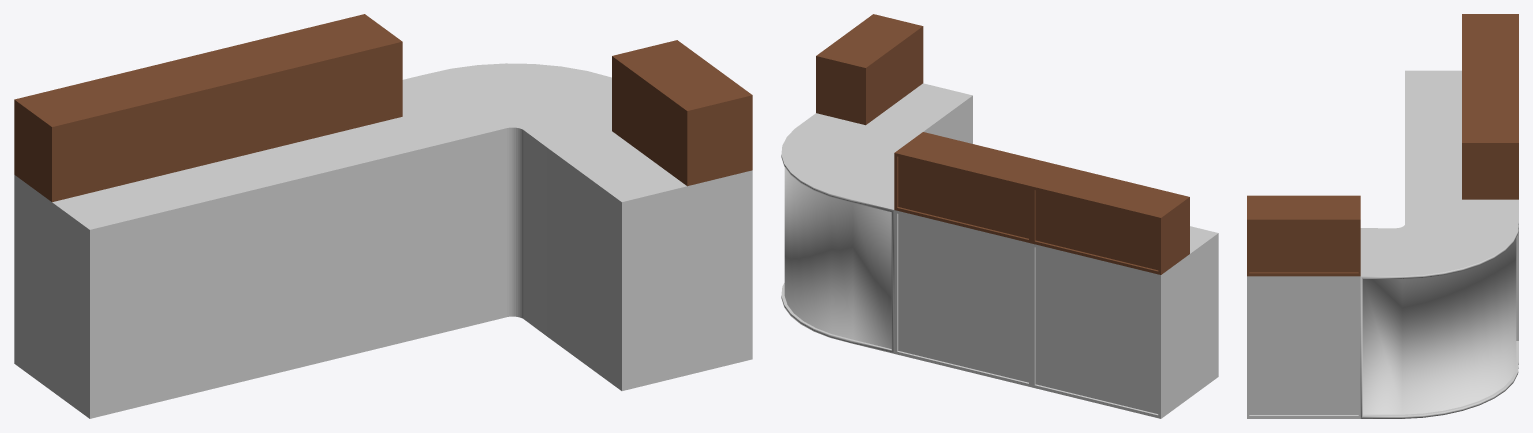
File: Reception_Desk.fbx
3 views of the same model, side by side, from view 1: azimuth 30°, elevation 25°; view 2: azimuth 150°, elevation 25°; view 3: azimuth 270°, elevation 25° (orthographic). The views are drawn at different scales.
Parts seen in each view (by area): view 1: Cube.001; view 2: Cube.001; view 3: Cube.001.
Part boxes in pixels (left/top/right/bottom): Cube.001: left=14, top=14, right=752, bottom=418; Cube.001: left=781, top=14, right=1218, bottom=418; Cube.001: left=1247, top=14, right=1518, bottom=418.
Size of the model in its own units: 1708 by 772 by 954.
